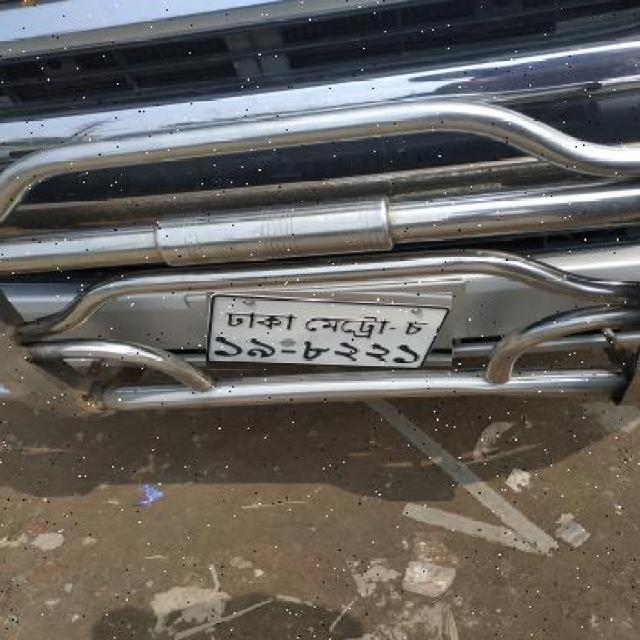numberplate: (206, 292, 452, 370)
